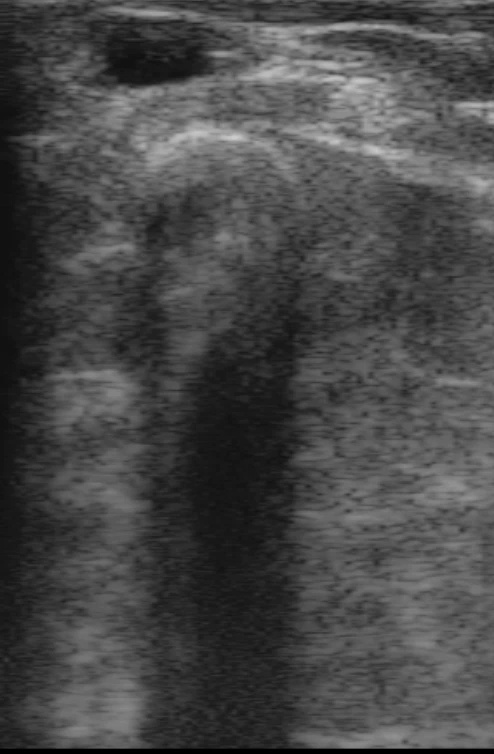veins_detect: (78, 10, 230, 95)
veins_seg: (92, 15, 217, 85)
